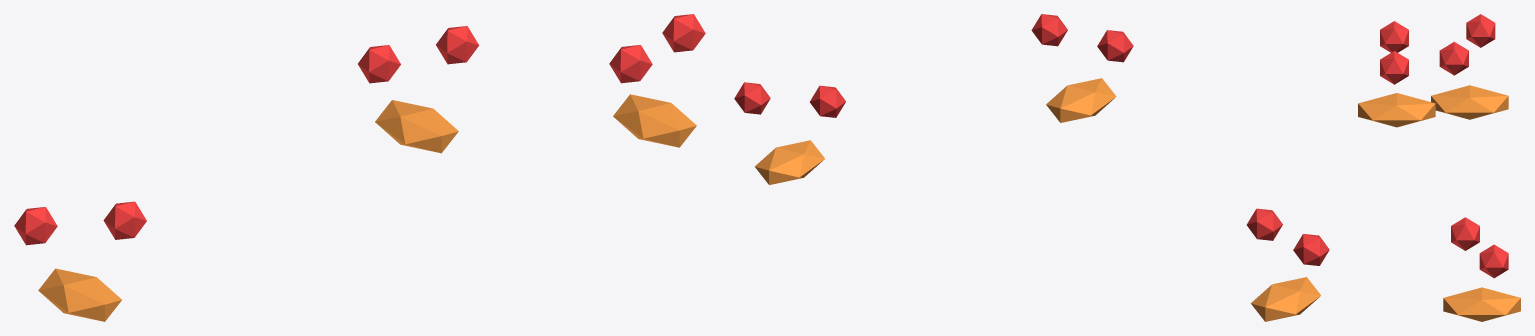
Rendered from CerberusEyes.obj.
3 renders of one model, left to right at view 1: azimuth 30°, elevation 25°; view 2: azimuth 150°, elevation 25°; view 3: azimuth 270°, elevation 25°, orthographic. The views are drawn at different scales.
Parts seen in each view (by area): view 1: CerberusEyes; view 2: CerberusEyes; view 3: CerberusEyes.
Boxes of the visible parts, x1=… form: CerberusEyes: x1=14, y1=14, x2=705, y2=321; CerberusEyes: x1=734, y1=14, x2=1329, y2=321; CerberusEyes: x1=1358, y1=14, x2=1520, y2=321.
Bounding box in the file's own units: 16.4 × 5.37 × 4.28.
Materials: 1 (1 with a texture image).
